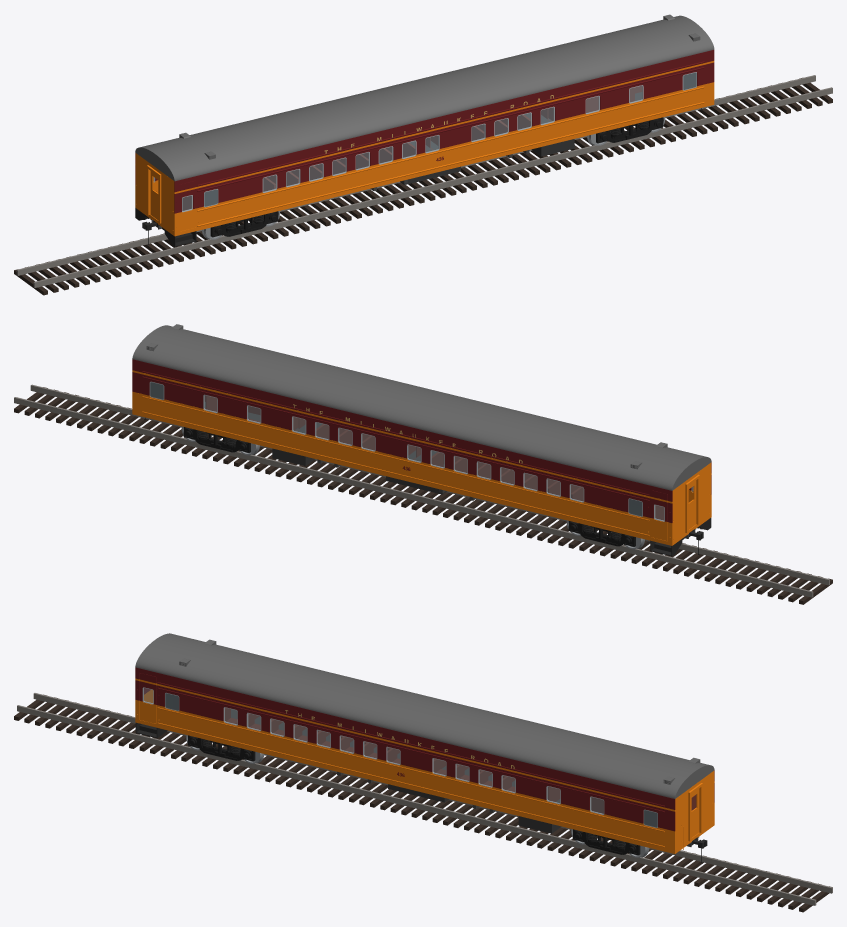
File: MR1937_BunkCoach_G.glb
The picture shows the model from 3 angles, top to bottom: view 1: azimuth 30°, elevation 25°; view 2: azimuth 150°, elevation 25°; view 3: azimuth 330°, elevation 25°; orthographic projection.
Visible parts, largest first — view 1: roof, orange, maroon, ties, rails, glass, interior, trucks, rims, equipment; view 2: roof, orange, maroon, ties, rails, glass, interior, trucks, rims, equipment; view 3: roof, orange, maroon, ties, rails, glass, interior, trucks, rims, equipment.
Boxes of the visible parts, <box> form: roof: <box>135,14,714,181</box>; orange: <box>135,61,714,236</box>; maroon: <box>135,50,714,213</box>; ties: <box>14,77,832,295</box>; rails: <box>16,75,832,287</box>; glass: <box>153,86,642,211</box>; interior: <box>182,86,642,210</box>; trucks: <box>210,117,663,237</box>; rims: <box>153,72,696,212</box>; equipment: <box>400,139,574,184</box>; roof: <box>132,324,711,490</box>; orange: <box>132,370,711,545</box>; maroon: <box>132,359,711,522</box>; ties: <box>14,387,832,604</box>; rails: <box>14,384,829,597</box>; glass: <box>204,395,692,520</box>; interior: <box>204,395,664,520</box>; trucks: <box>183,427,635,546</box>; rims: <box>149,381,693,521</box>; equipment: <box>272,448,446,494</box>; roof: <box>135,633,714,798</box>; orange: <box>135,678,714,853</box>; maroon: <box>135,667,714,831</box>; ties: <box>14,694,832,912</box>; rails: <box>17,693,832,905</box>; glass: <box>143,688,603,814</box>; interior: <box>225,707,696,813</box>; trucks: <box>188,735,640,855</box>; rims: <box>142,687,657,827</box>; equipment: <box>388,784,561,833</box>.
Bounding box in the file's own units: 1.24 × 0.1479 × 0.1069.
